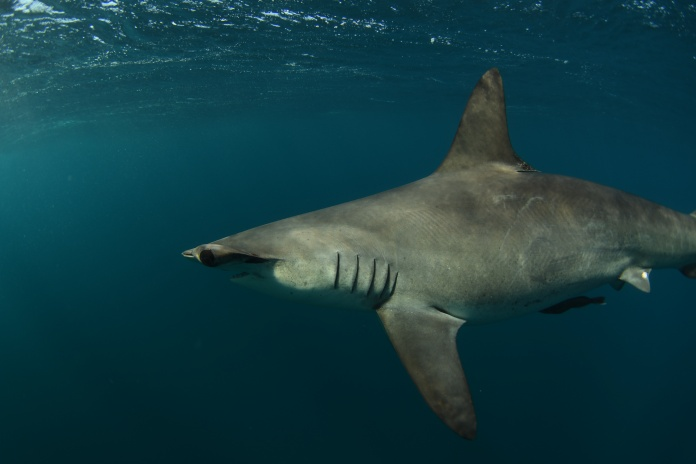Hammer: (140, 48, 696, 443)
